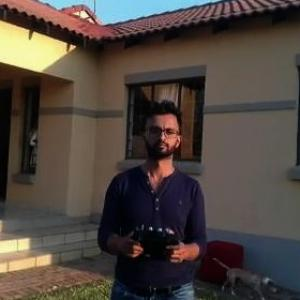follow: (92, 97, 211, 299)
null: (209, 253, 280, 299)
